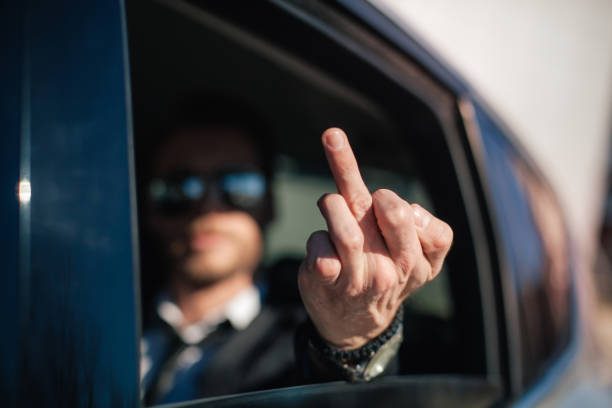insulting_gesture: (299, 123, 454, 362)
